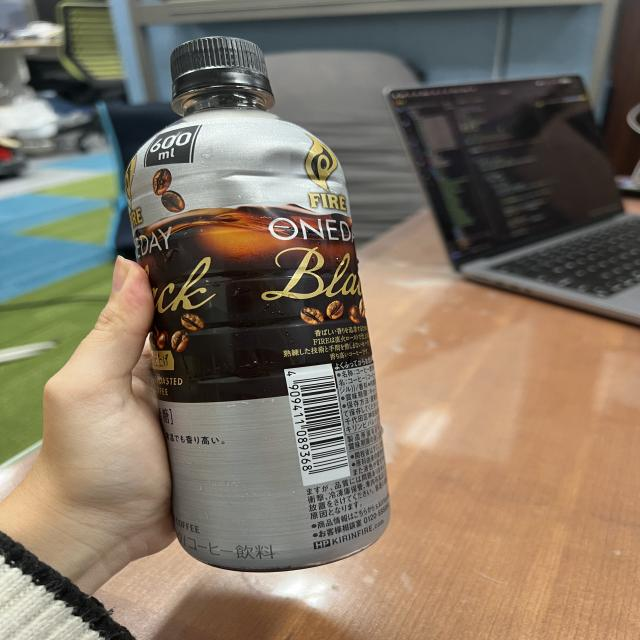coffee-black: (101, 29, 400, 566)
